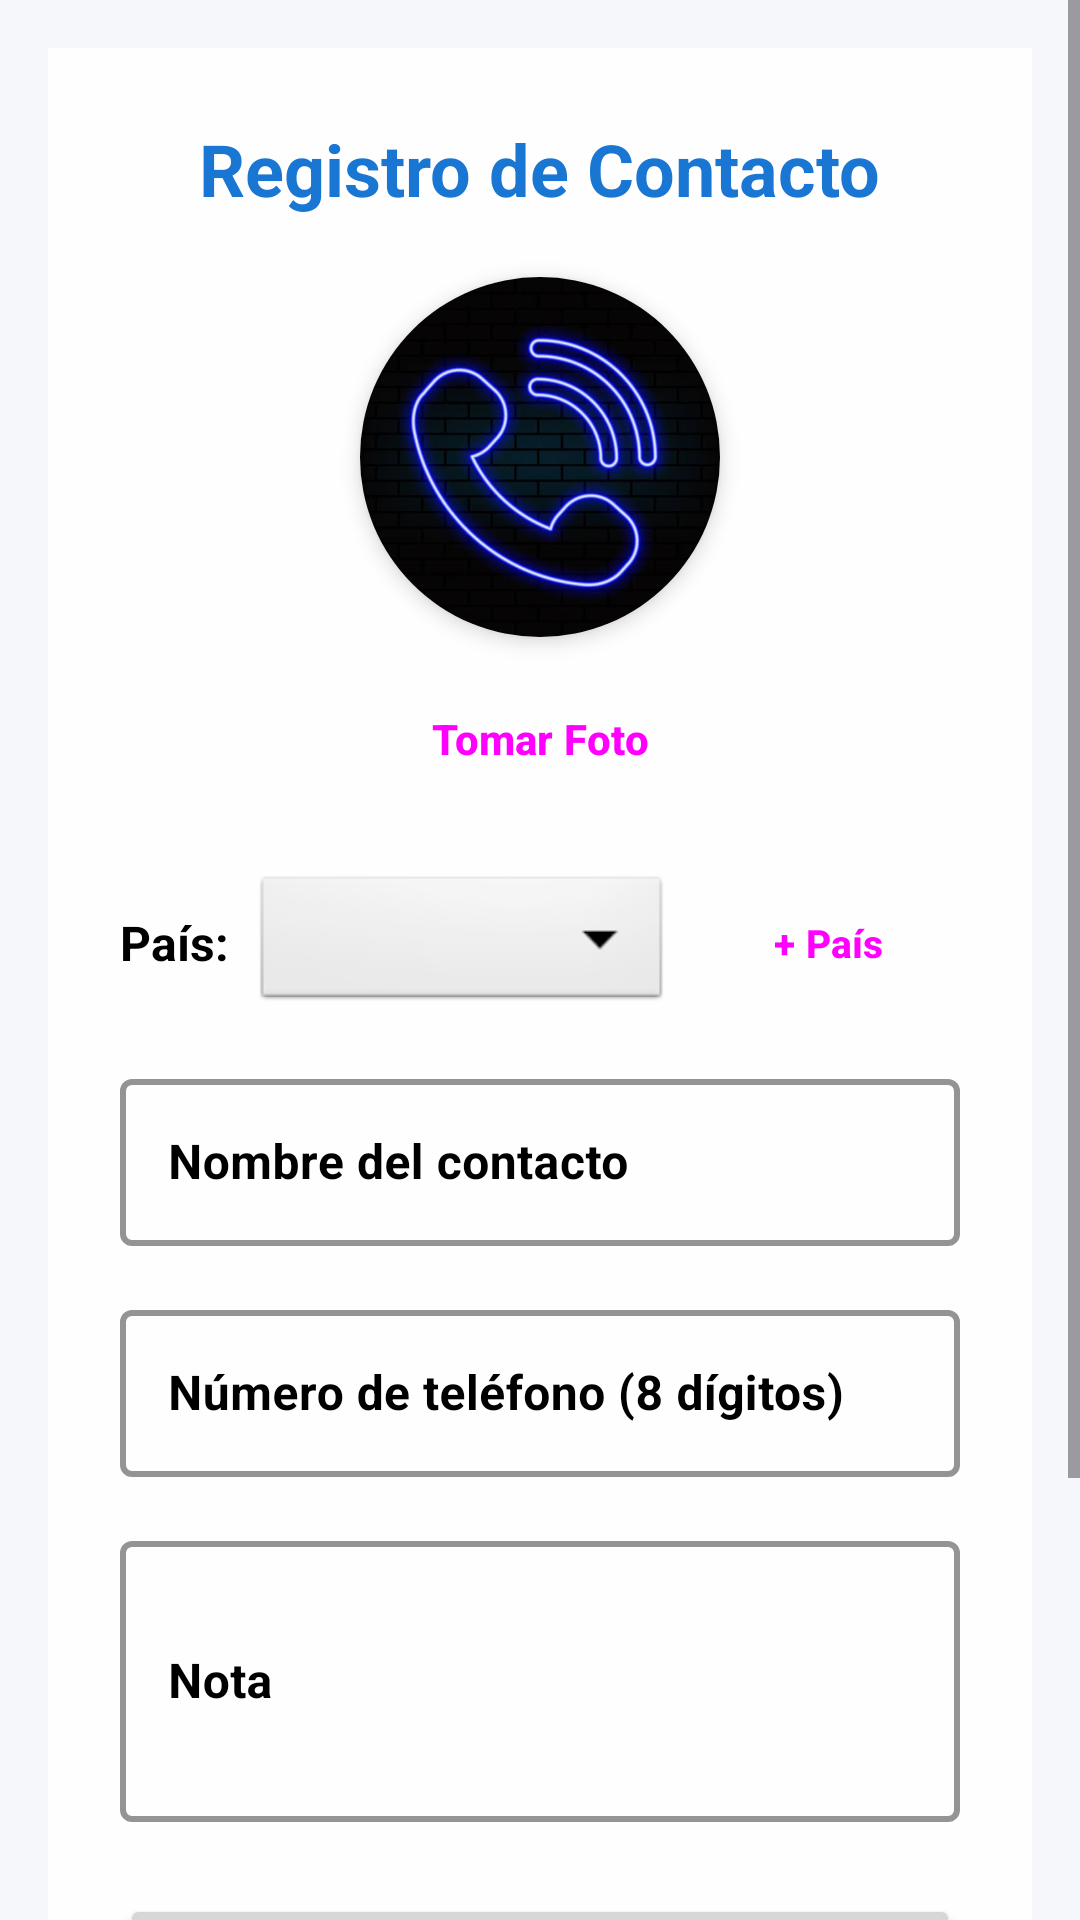

Where to tap for icons on this 1080px×1920px app screen, as [x,y]:
Foto del contacto: [540,457]
